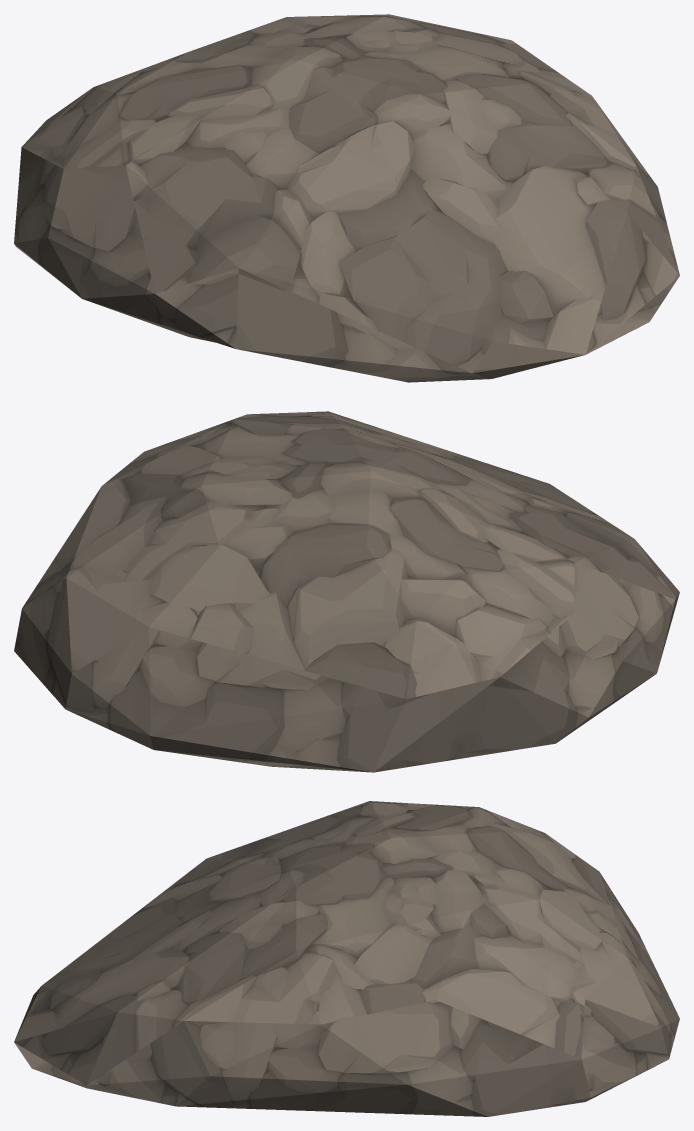
Rendered from synty-rock-rounded-01.gltf.
3 renders of one model, top to bottom at view 1: azimuth 30°, elevation 25°; view 2: azimuth 150°, elevation 25°; view 3: azimuth 270°, elevation 25°, orthographic. The views are drawn at different scales.
Visible parts, largest first — view 1: SM_Rock_Rounded_01; view 2: SM_Rock_Rounded_01; view 3: SM_Rock_Rounded_01.
Part boxes in pixels (x1,y1,x2,y2): SM_Rock_Rounded_01: (14,14,679,382); SM_Rock_Rounded_01: (14,411,679,772); SM_Rock_Rounded_01: (14,801,679,1116).
Bounding box in the file's own units: 1.37 × 0.5035 × 1.57.
1 material, 1 textured.
